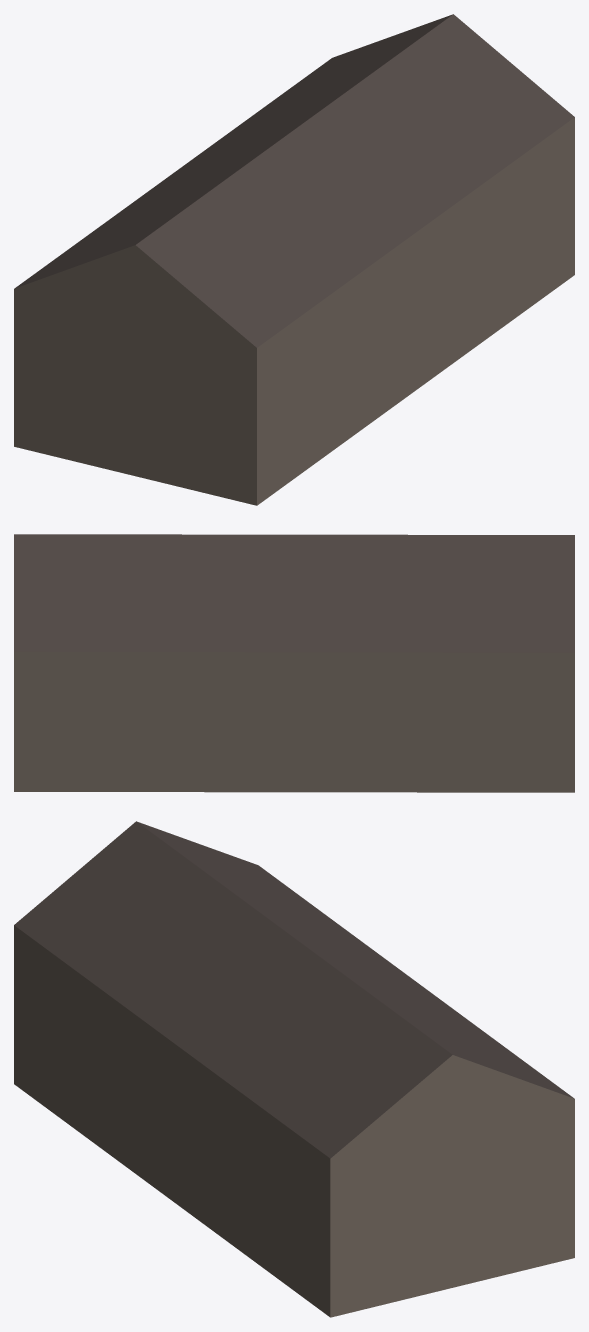
3 views of the same model, one above another, from view 1: azimuth 30°, elevation 25°; view 2: azimuth 150°, elevation 25°; view 3: azimuth 270°, elevation 25° (orthographic). The views are drawn at different scales.
Parts seen in each view (by area): view 1: HP-w369237882; view 2: HP-w369237882; view 3: HP-w369237882.
Part boxes in pixels (box(x1,y1,x2,y2)): HP-w369237882: box(14, 14, 574, 505); HP-w369237882: box(14, 534, 574, 792); HP-w369237882: box(14, 821, 574, 1317).
Bounding box in the file's own units: 23.74 × 8.79 × 19.18.
